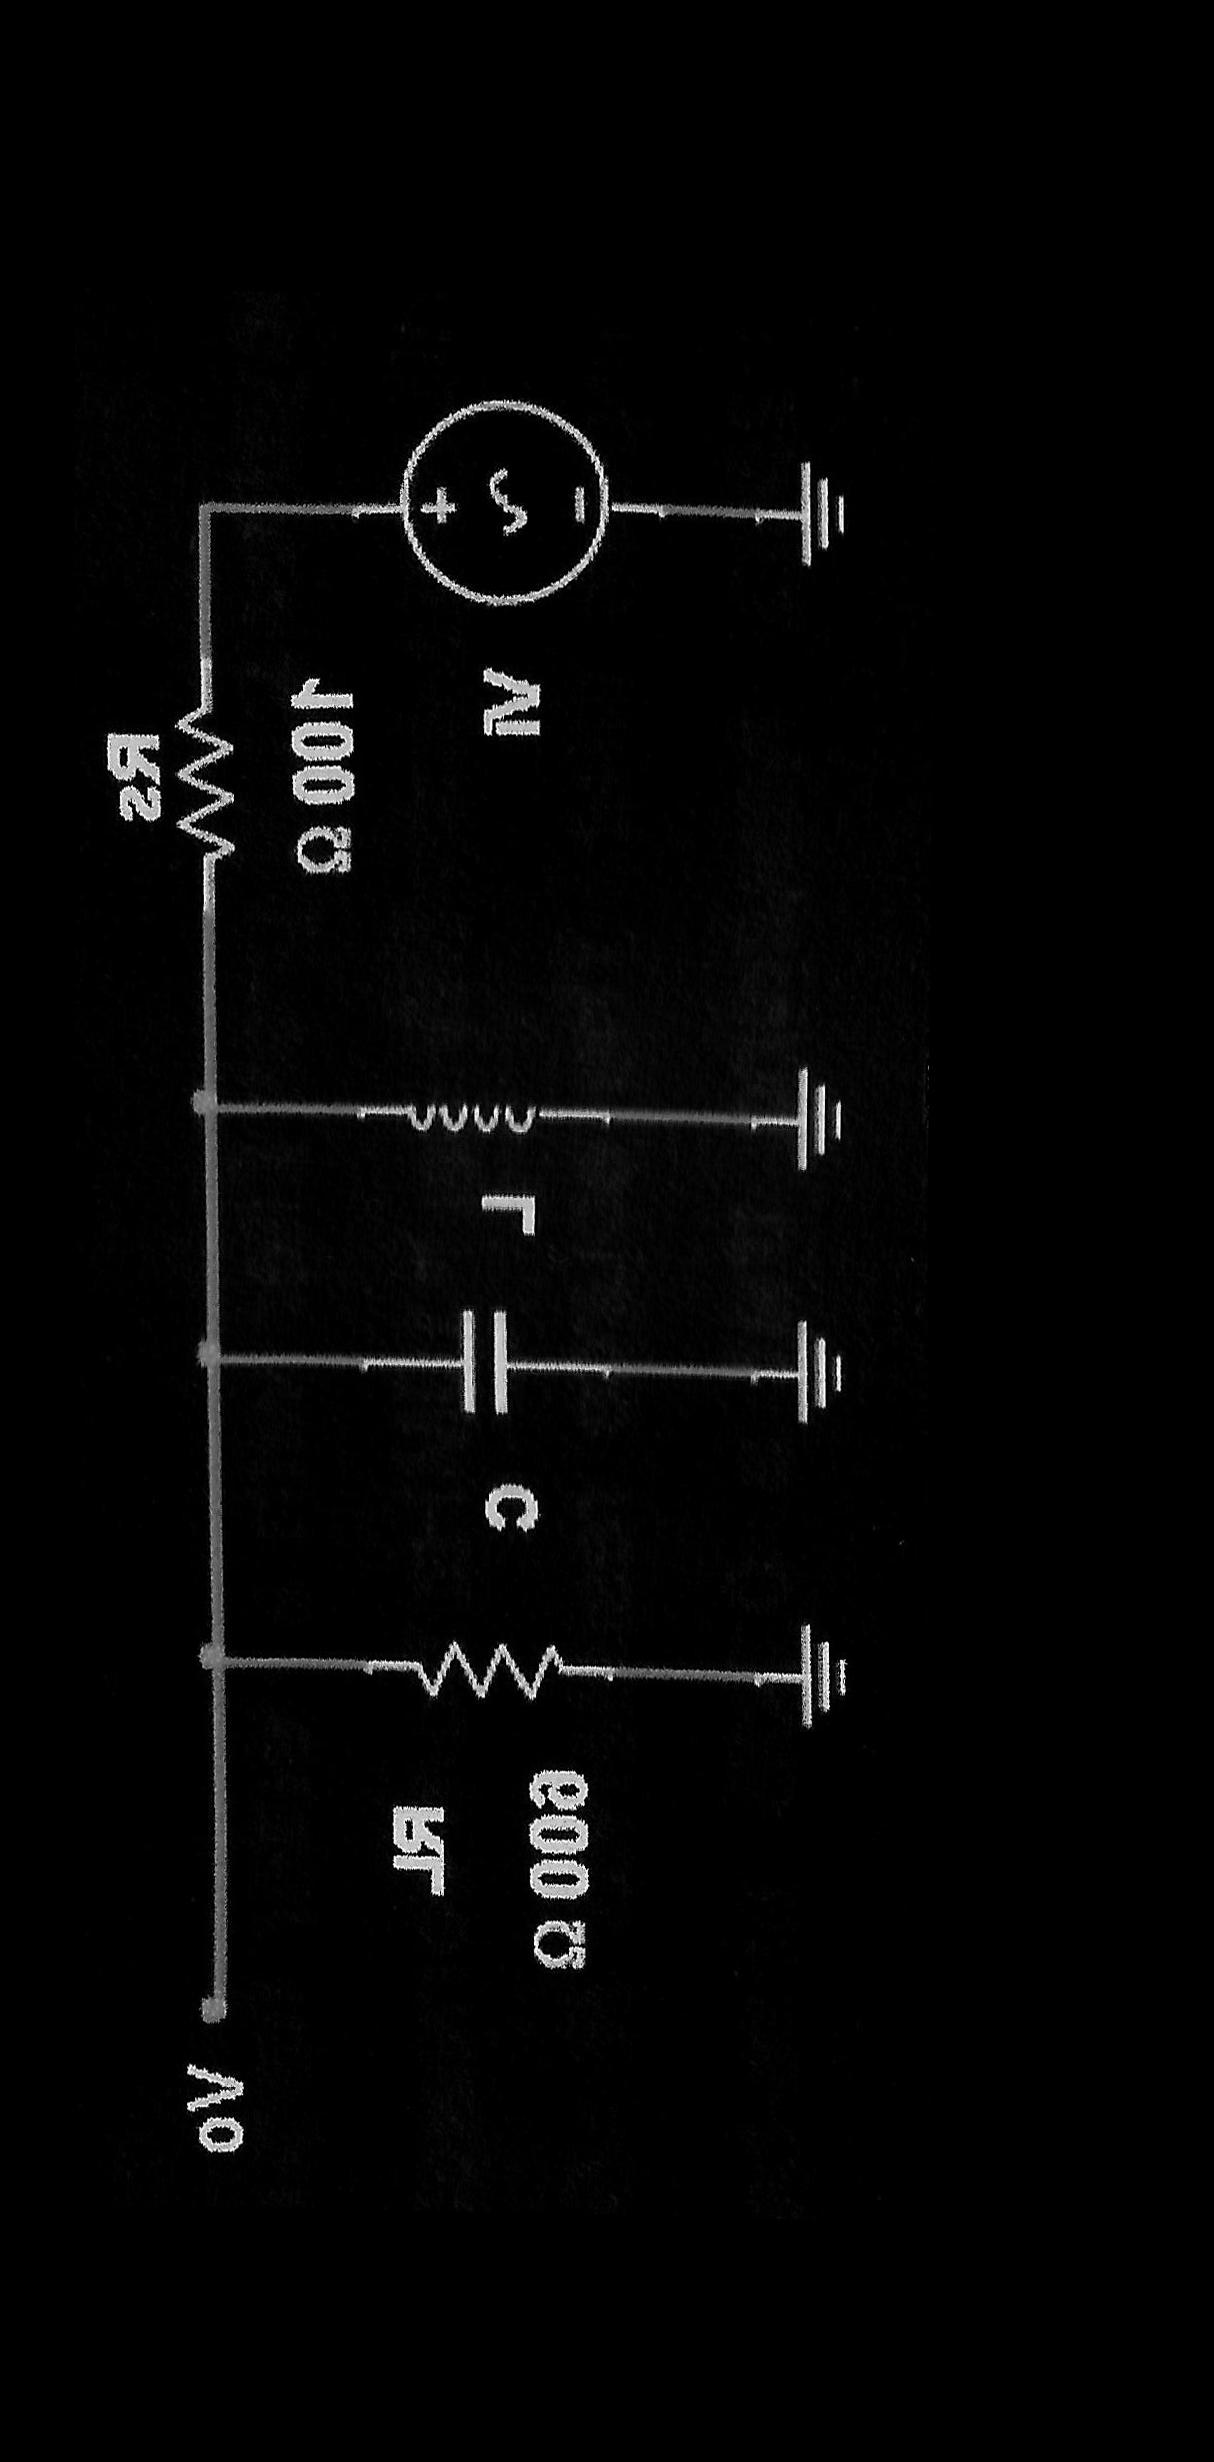Battery: (339, 349, 713, 634)
